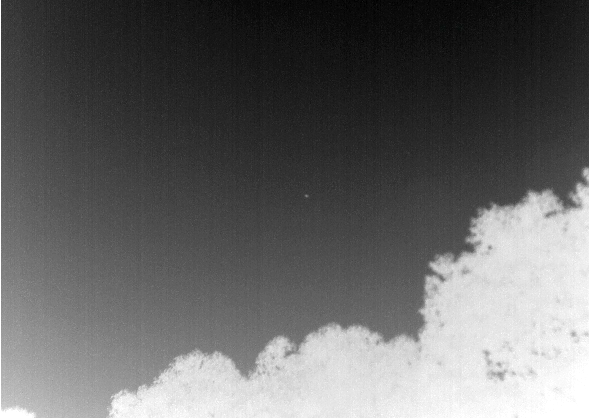dim target: (303, 193, 309, 198)
